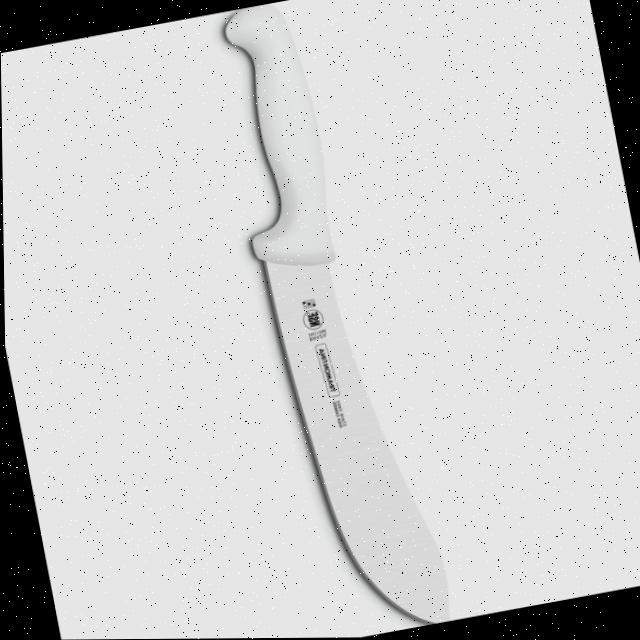knife: (203, 0, 467, 639)
